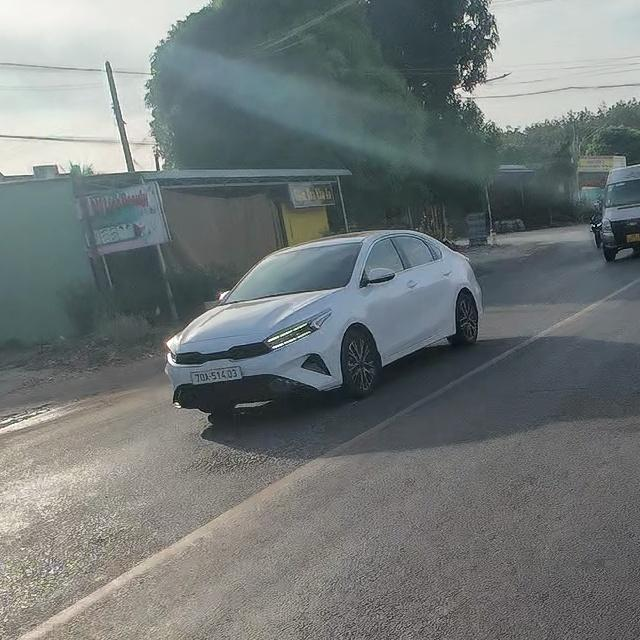license-plate: (190, 368, 241, 384)
